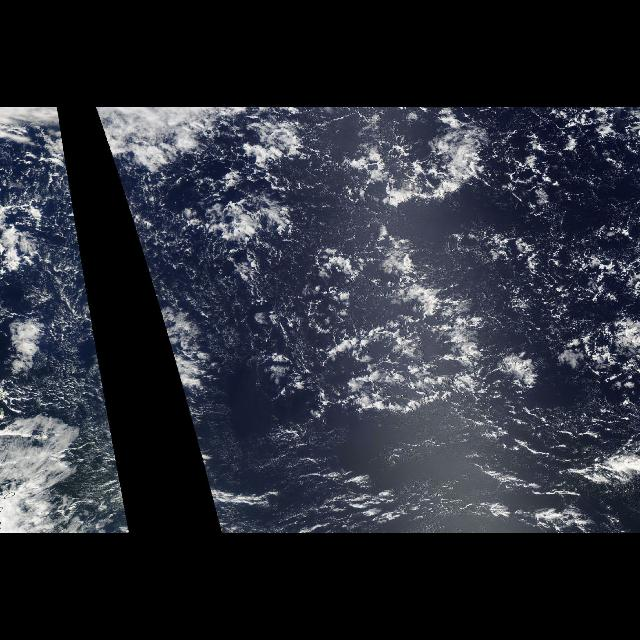Gravel: (166, 117, 630, 433)
Sugar: (228, 405, 618, 525)
